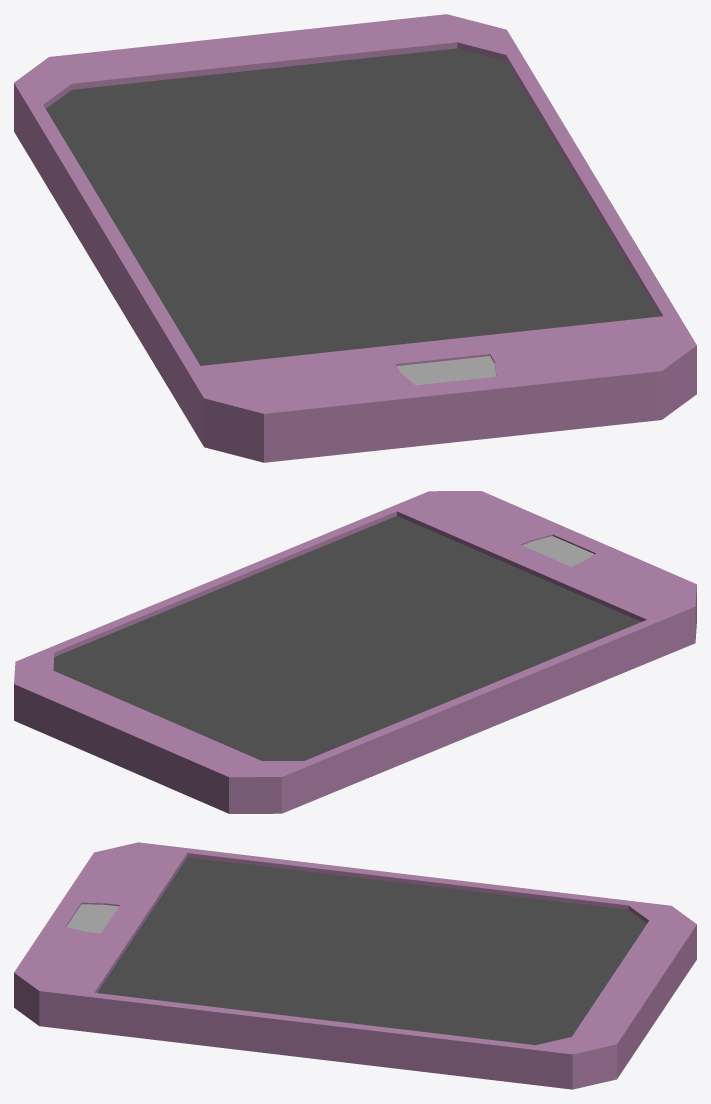
Rendered from phone 1.fbx.
3 views of the same model, one above another, from view 1: azimuth 30°, elevation 25°; view 2: azimuth 150°, elevation 25°; view 3: azimuth 270°, elevation 25° (orthographic). The views are drawn at different scales.
Parts seen in each view (by area): view 1: Phone; view 2: Phone; view 3: Phone.
Part boxes in pixels (x1=…): Phone: x1=14, y1=14, x2=696, y2=462; Phone: x1=14, y1=491, x2=696, y2=813; Phone: x1=14, y1=842, x2=696, y2=1089.
Size of the model in its own units: 3.75 by 0.2894 by 5.1.
